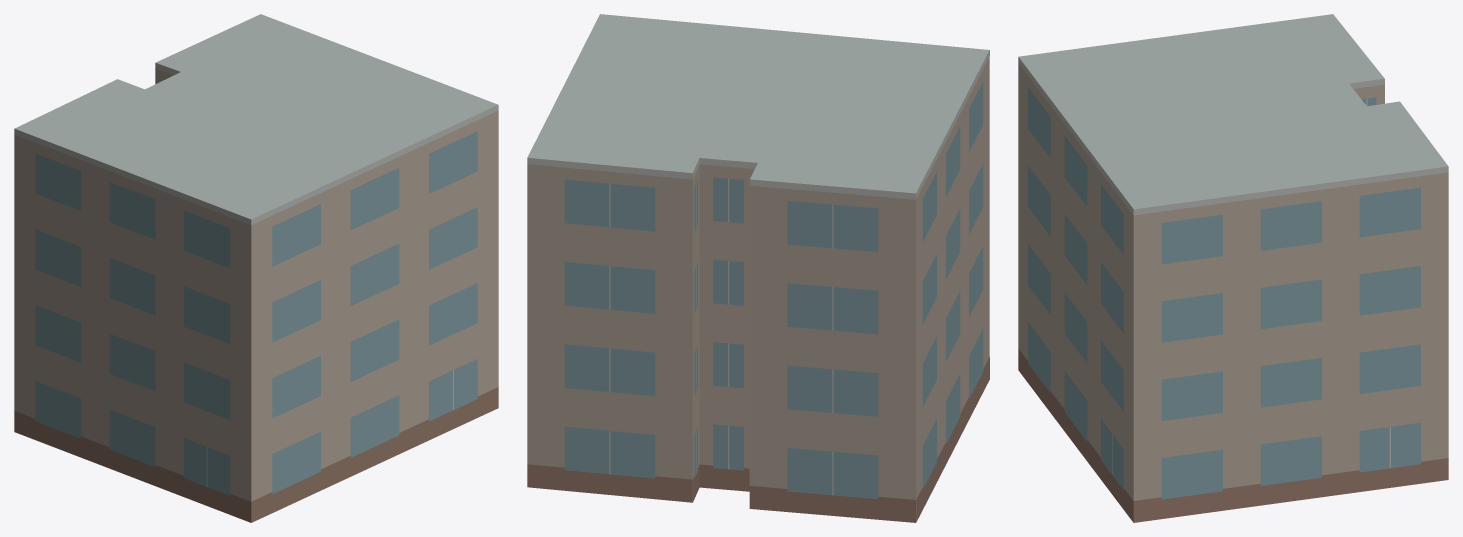
The model's file is survey-upis-32748269.glb.
3 views of the same model, side by side, from view 1: azimuth 30°, elevation 25°; view 2: azimuth 150°, elevation 25°; view 3: azimuth 270°, elevation 25° (orthographic). The views are drawn at different scales.
Visible parts, largest first — view 1: survey-upis-32748269.tmp; view 2: survey-upis-32748269.tmp; view 3: survey-upis-32748269.tmp.
Part boxes in pixels (<box>): survey-upis-32748269.tmp: <box>14,14,498,522</box>; survey-upis-32748269.tmp: <box>527,14,989,522</box>; survey-upis-32748269.tmp: <box>1018,14,1448,522</box>.
Bounding box in the file's own units: 17.12 × 12.8 × 15.93.
